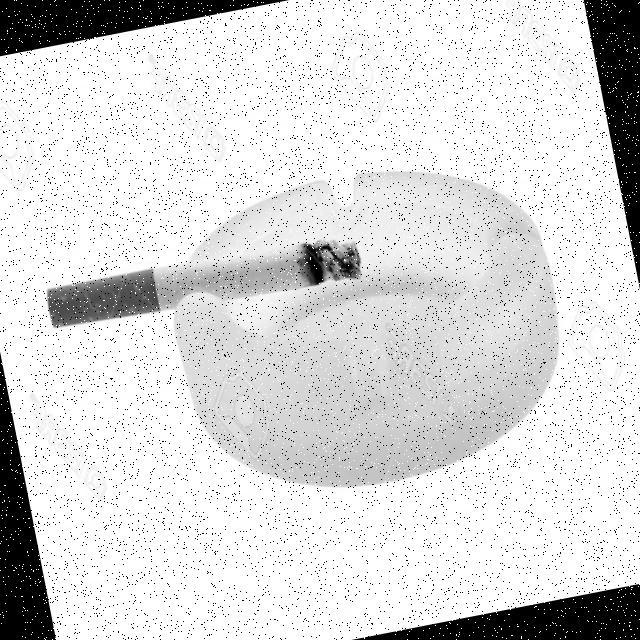cigarette: (41, 216, 374, 348)
